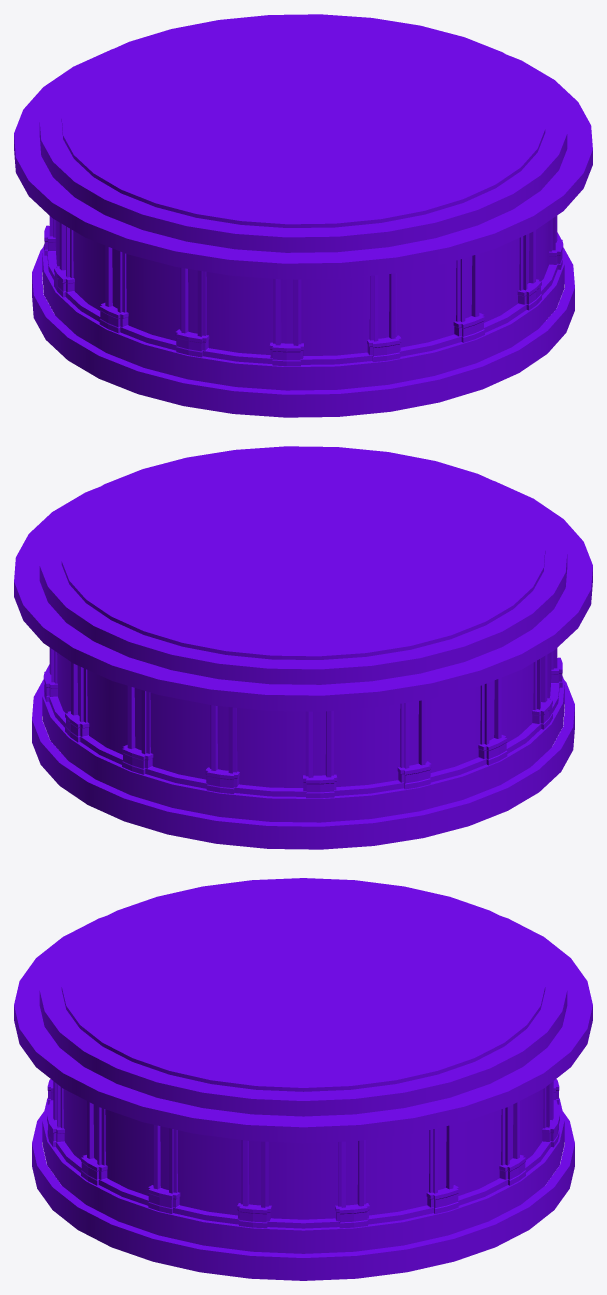
The model's file is SM_gatewindowbase.fbx.
The picture shows the model from 3 angles, top to bottom: view 1: azimuth 30°, elevation 25°; view 2: azimuth 150°, elevation 25°; view 3: azimuth 270°, elevation 25°; orthographic projection.
Parts seen in each view (by area): view 1: SM_gatewindowbase; view 2: SM_gatewindowbase; view 3: SM_gatewindowbase.
Boxes of the visible parts, <box> form: SM_gatewindowbase: <box>14,14,592,417</box>; SM_gatewindowbase: <box>14,446,592,849</box>; SM_gatewindowbase: <box>14,878,592,1280</box>.
Bounding box in the file's own units: 608 × 209 × 608.
